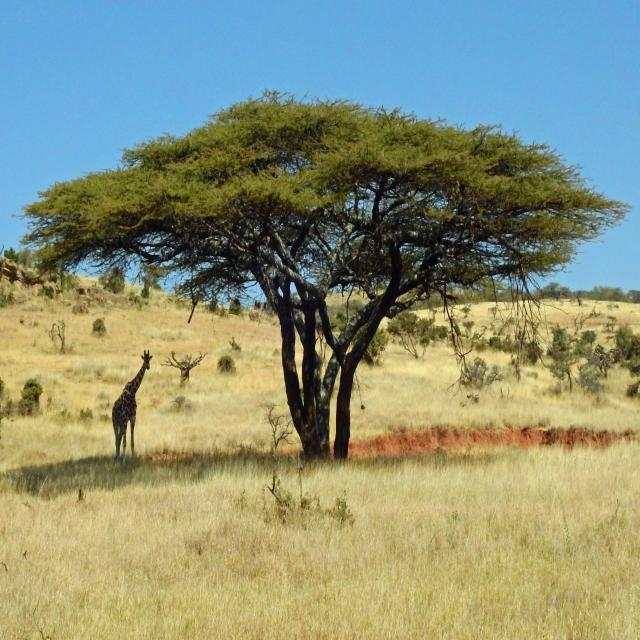Acacia: (166, 126, 553, 444)
